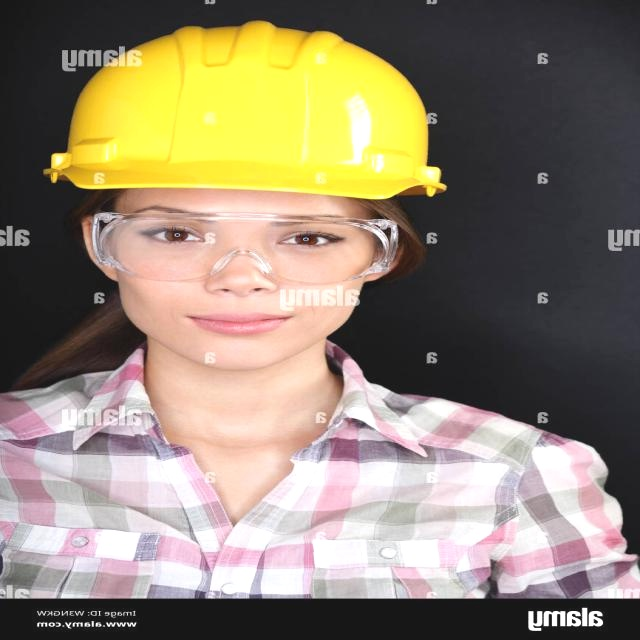goggles: (235, 206, 564, 301)
helmet: (176, 19, 561, 203)
